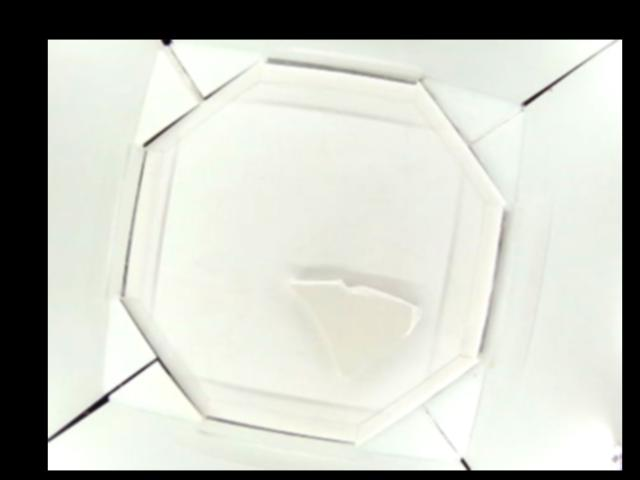China: (286, 277, 422, 384)
